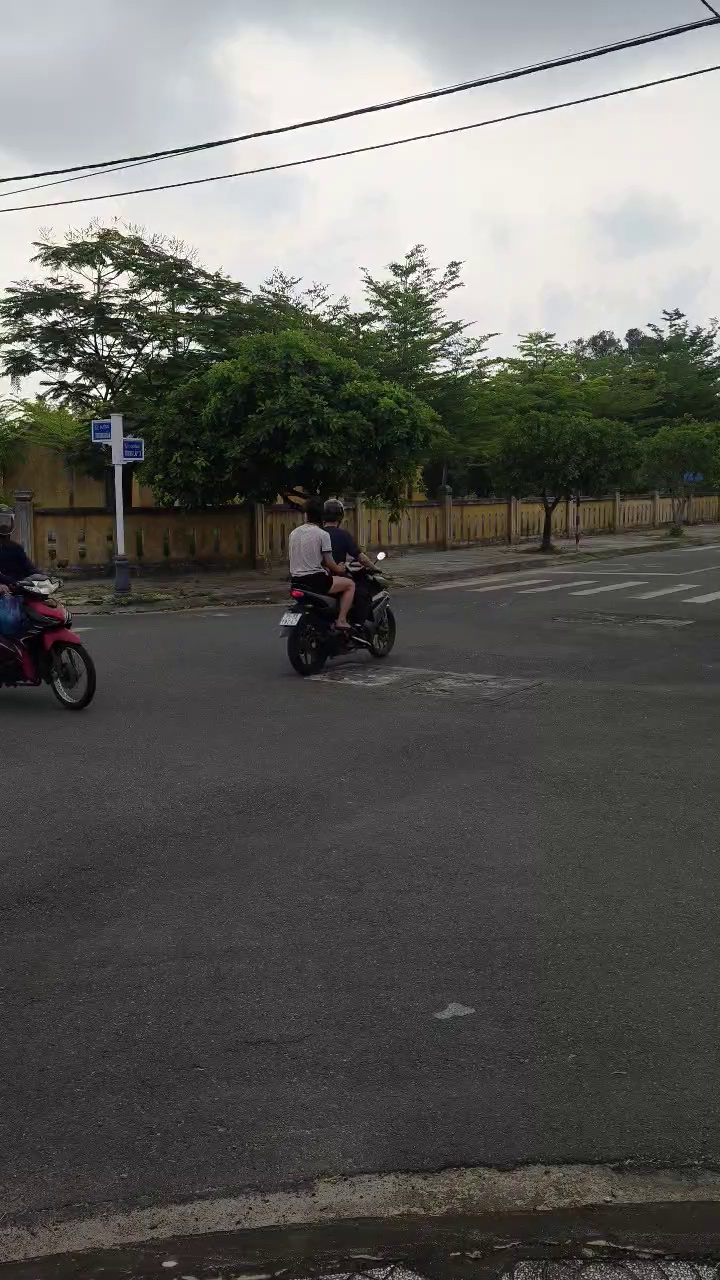helmet: (325, 499, 350, 539)
no_helmet: (303, 501, 322, 536)
